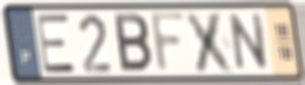2: (76, 12, 115, 76)
B: (112, 11, 154, 75)
E: (34, 12, 79, 76)
F: (148, 9, 189, 76)
N: (228, 11, 270, 73)
X: (183, 10, 238, 75)
